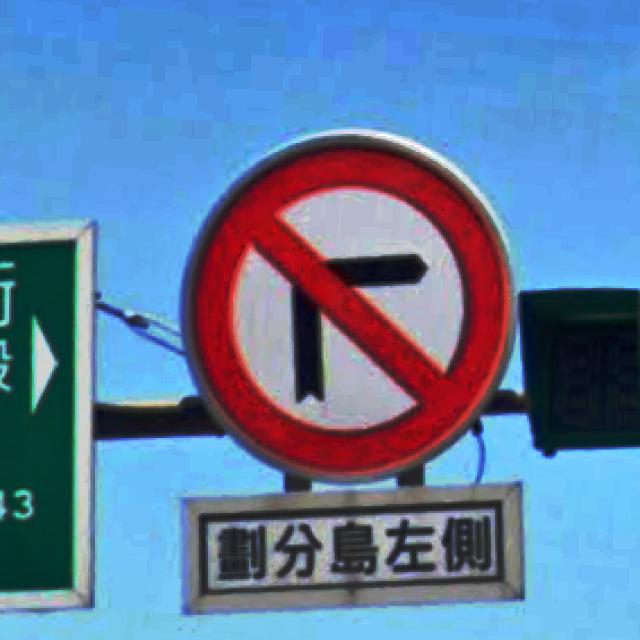noturnright: (176, 125, 518, 481)
